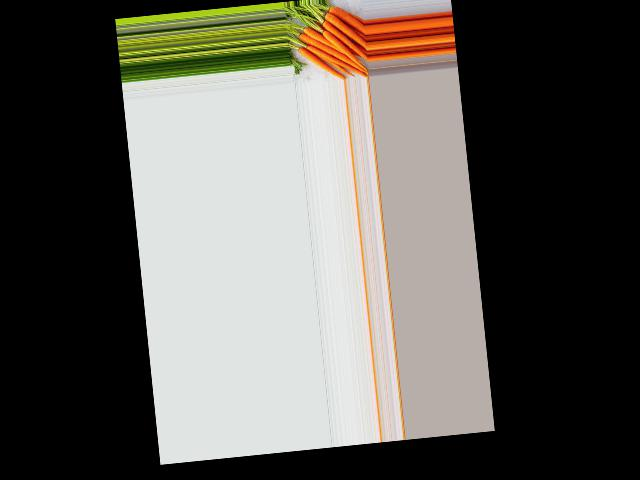carrot: (327, 3, 365, 32)
